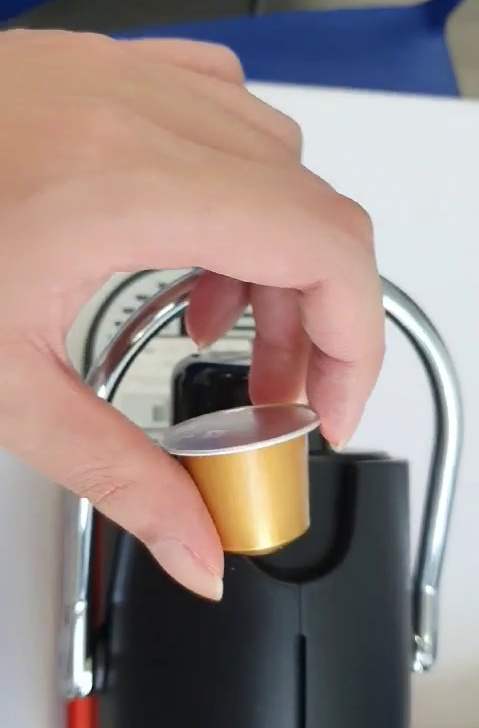capsule_8: (157, 400, 324, 557)
